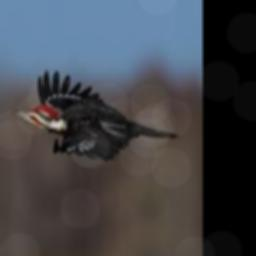Woodpecker: (11, 69, 178, 161)
